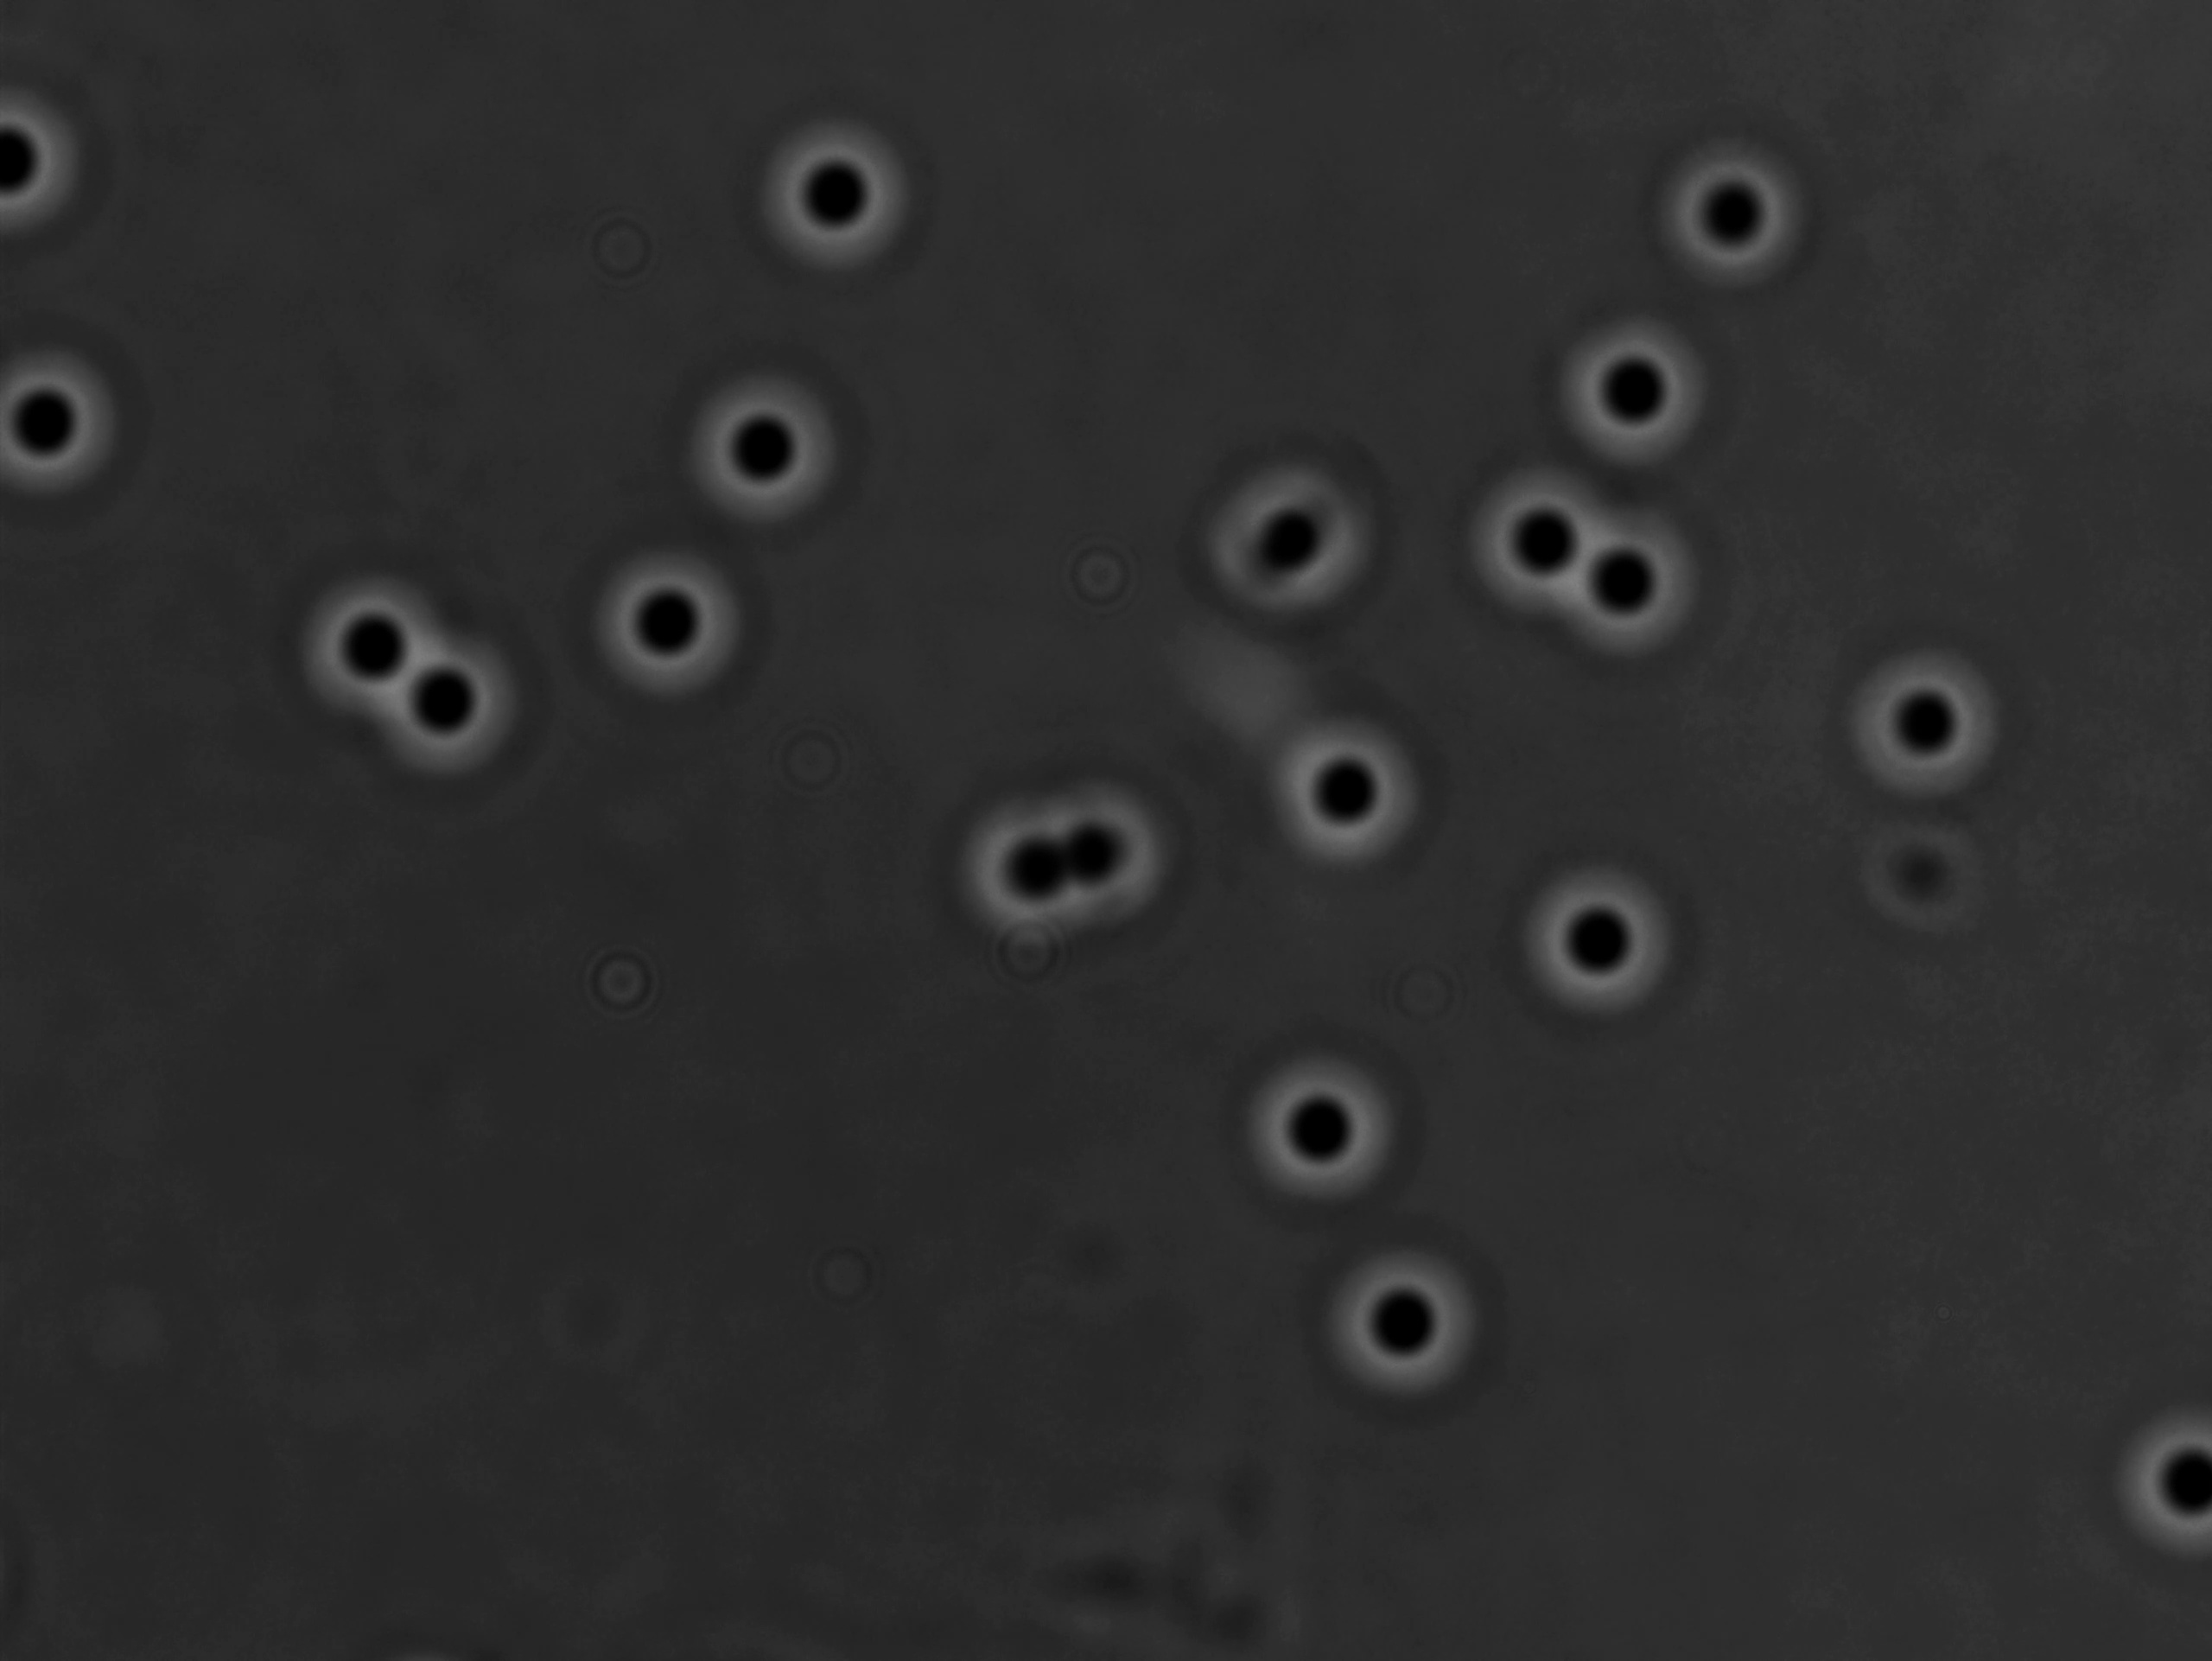depth:-80: (1185, 429, 1397, 640), (1228, 689, 1455, 886), (1499, 830, 1701, 1047), (1816, 619, 2027, 822), (1230, 1033, 1436, 1235), (673, 354, 867, 553), (1439, 438, 1631, 639), (745, 96, 942, 288), (1525, 302, 1722, 489), (572, 529, 762, 715), (1530, 476, 1717, 663), (1310, 1227, 1499, 1412), (276, 557, 461, 738), (1642, 126, 1828, 298), (363, 625, 541, 796), (2102, 1380, 2212, 1570)
